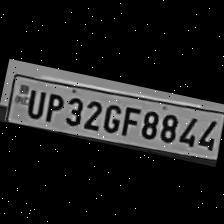2: (78, 94, 105, 130)
3: (60, 90, 85, 127)
4: (193, 113, 219, 149), (175, 110, 200, 146)
8: (154, 106, 181, 144), (136, 104, 162, 140)
F: (116, 100, 141, 137)
G: (98, 98, 122, 134)
P: (40, 87, 66, 124)
U: (21, 84, 46, 119)
